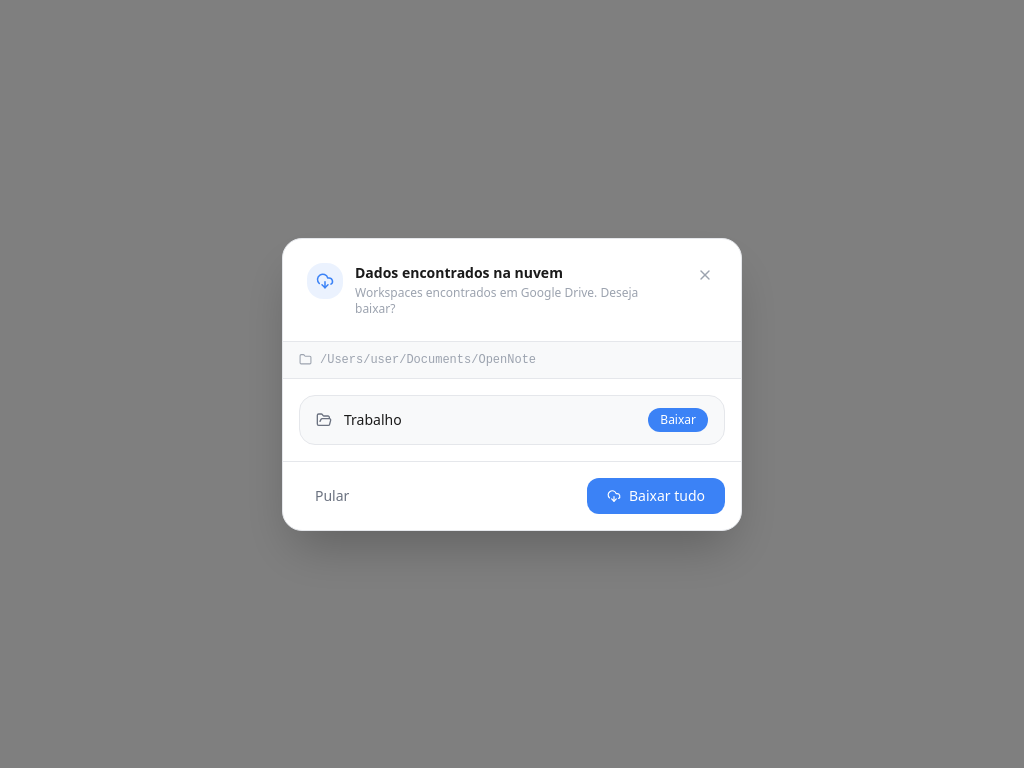
Test case: CloudImportModal › shows error state when download fails
Click the button "Baixar".
click(678, 420)  # box [648,408,708,432]
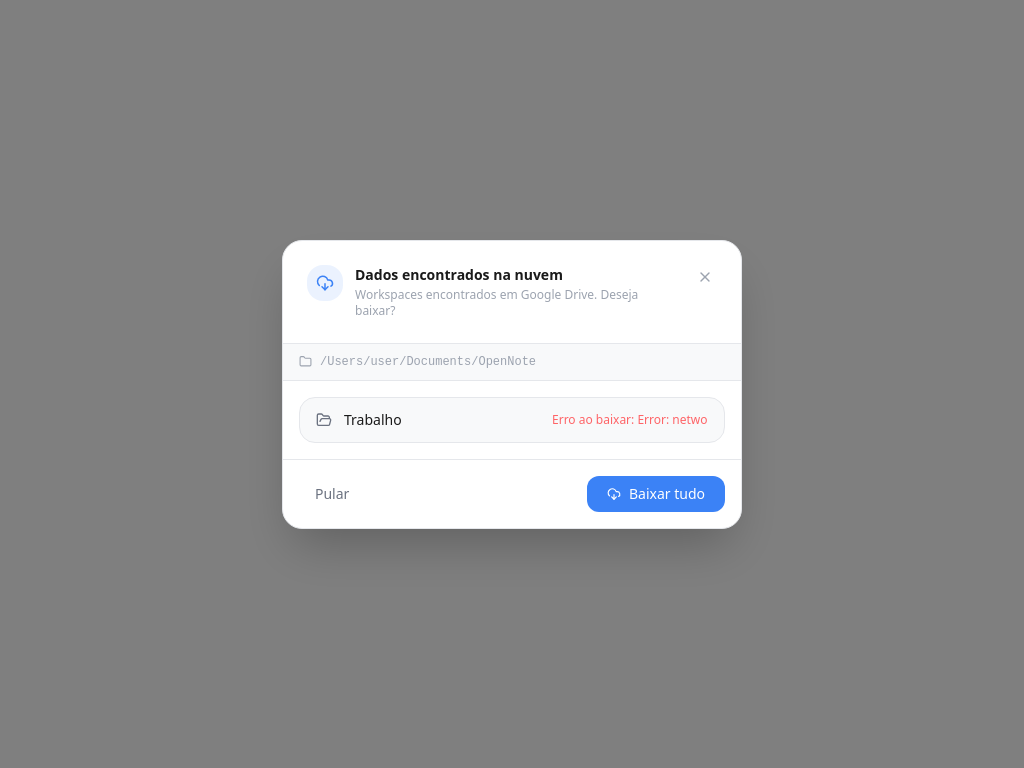
Check: the text "Erro ao baixar: Error: network error" is shown, box [548,412,708,428]
